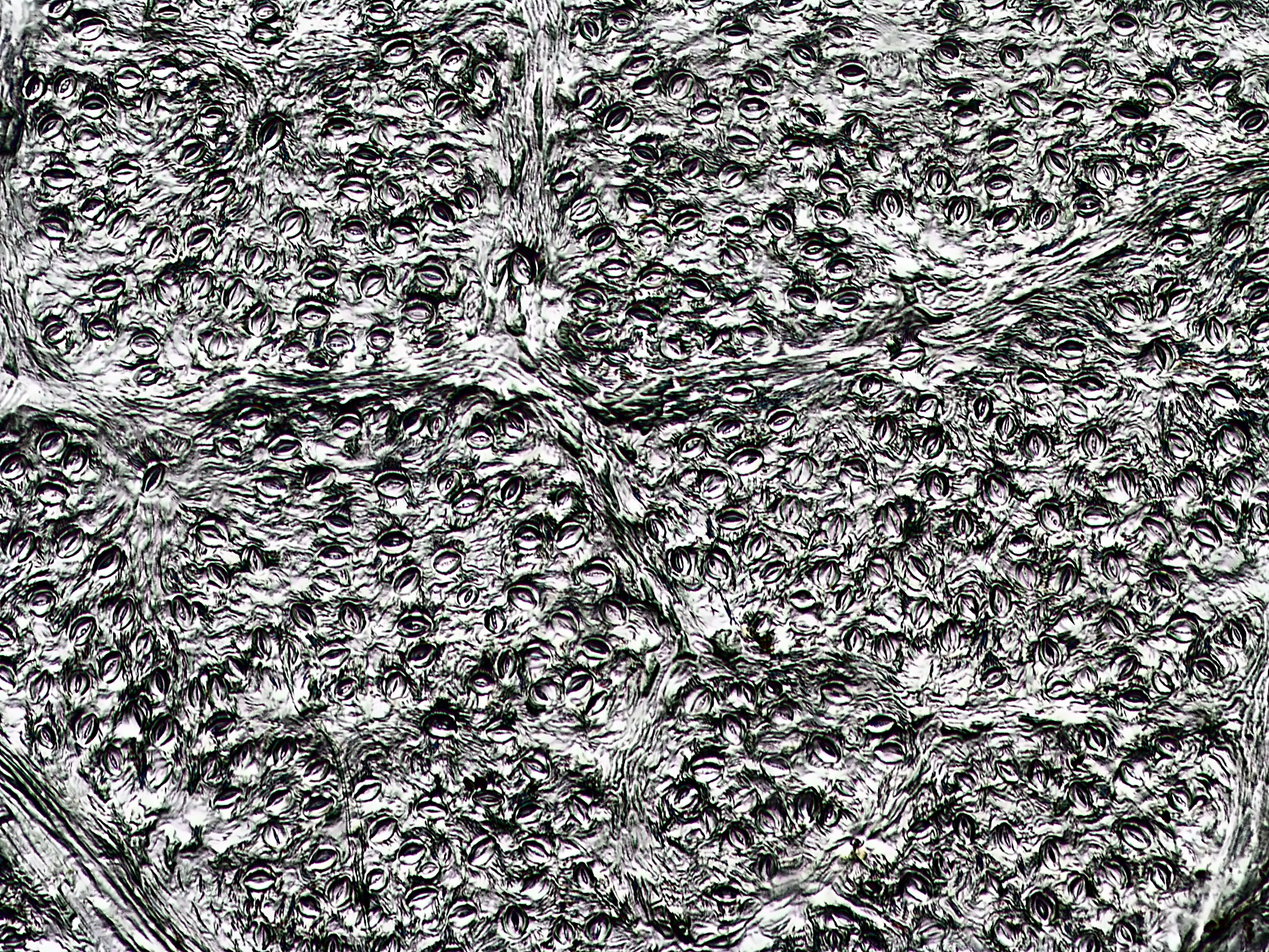stomata: (381, 36, 417, 67), (256, 116, 286, 153), (728, 448, 766, 476), (509, 248, 537, 285), (1164, 614, 1199, 643), (1073, 372, 1107, 401), (1071, 189, 1104, 218), (691, 753, 724, 782), (174, 137, 208, 165), (268, 432, 302, 460), (623, 184, 655, 213), (1219, 424, 1247, 457), (93, 545, 120, 579), (296, 304, 331, 330), (375, 473, 410, 499), (891, 344, 926, 370), (170, 595, 195, 631), (667, 69, 696, 100), (468, 836, 496, 868), (41, 162, 74, 189), (339, 176, 372, 203), (338, 601, 365, 634), (1207, 72, 1241, 98), (424, 713, 458, 739), (502, 905, 528, 939), (639, 263, 670, 291), (902, 872, 933, 900), (1120, 823, 1152, 850), (317, 641, 350, 667), (796, 785, 822, 818), (251, 303, 276, 337), (35, 481, 69, 506), (1010, 89, 1039, 118), (1142, 517, 1171, 546), (702, 552, 731, 581), (56, 528, 84, 558), (714, 506, 749, 530), (584, 913, 611, 944), (882, 502, 905, 538), (73, 17, 107, 41), (435, 90, 463, 119), (1223, 221, 1252, 249), (262, 821, 290, 850), (1212, 500, 1239, 530), (368, 816, 398, 843), (22, 71, 48, 102), (78, 93, 109, 119), (1067, 782, 1093, 813), (377, 532, 412, 555), (195, 523, 227, 548), (303, 794, 335, 819), (1112, 467, 1136, 500), (108, 160, 141, 184), (38, 216, 71, 240), (401, 301, 434, 325), (577, 563, 613, 585), (399, 87, 428, 114), (1039, 503, 1066, 532), (302, 757, 331, 784), (812, 736, 841, 763), (717, 21, 751, 44), (304, 266, 338, 289), (29, 669, 52, 703), (9, 532, 35, 562), (744, 68, 775, 93), (781, 135, 812, 160), (1112, 297, 1143, 322), (1208, 382, 1239, 407), (952, 813, 977, 844), (146, 227, 171, 258), (519, 872, 550, 897), (112, 64, 144, 88), (1082, 427, 1106, 459), (112, 597, 136, 629), (231, 739, 255, 771), (985, 475, 1009, 507), (990, 584, 1013, 617), (996, 822, 1019, 855), (317, 545, 350, 568), (452, 492, 485, 515), (798, 104, 825, 132), (393, 567, 421, 594), (599, 598, 627, 625), (756, 806, 784, 833), (877, 188, 903, 217), (427, 201, 456, 227), (37, 429, 66, 455), (69, 616, 95, 645), (514, 800, 543, 826), (1192, 522, 1222, 547), (1024, 430, 1049, 460), (108, 209, 133, 239), (513, 525, 543, 550), (1026, 759, 1050, 790), (237, 404, 268, 428), (305, 466, 336, 490), (205, 711, 236, 735), (328, 876, 352, 907), (579, 636, 610, 660), (787, 287, 818, 311), (765, 409, 796, 433), (149, 56, 181, 79), (1059, 59, 1091, 82), (1205, 315, 1228, 347), (1031, 892, 1054, 924), (98, 652, 121, 684), (150, 714, 173, 746), (206, 674, 229, 706), (548, 169, 580, 192), (573, 288, 605, 311), (790, 455, 813, 487), (471, 62, 497, 90), (1044, 150, 1070, 178), (1102, 862, 1128, 890), (29, 588, 55, 616), (290, 602, 316, 630), (265, 788, 293, 814), (309, 845, 337, 871), (678, 434, 706, 460), (322, 117, 355, 139), (835, 62, 868, 84), (92, 278, 125, 300), (414, 266, 447, 288), (243, 869, 276, 891), (371, 121, 396, 150), (465, 425, 494, 450), (624, 308, 662, 327), (1038, 5, 1062, 35), (1109, 12, 1139, 36), (1239, 110, 1269, 134), (947, 195, 971, 225), (1116, 689, 1152, 709), (501, 476, 525, 506), (273, 736, 297, 766), (573, 862, 597, 892), (520, 840, 550, 864), (466, 671, 496, 695), (1019, 369, 1049, 393), (720, 714, 744, 744), (690, 686, 714, 716), (798, 238, 832, 259), (875, 412, 896, 446), (427, 151, 458, 174), (1143, 80, 1174, 103), (819, 171, 850, 194), (1152, 339, 1175, 370), (992, 917, 1015, 948), (938, 620, 961, 651), (873, 741, 904, 764), (223, 277, 245, 309), (279, 211, 305, 238), (378, 180, 405, 206), (36, 114, 64, 139), (605, 106, 633, 131), (1112, 919, 1137, 947), (80, 195, 108, 220), (555, 525, 583, 550), (73, 128, 102, 152), (440, 48, 469, 72), (1105, 609, 1129, 638), (186, 228, 215, 252), (64, 444, 88, 473), (832, 290, 865, 311), (737, 680, 758, 713), (1039, 637, 1062, 667), (1083, 722, 1106, 752), (76, 713, 99, 743), (502, 410, 525, 440), (407, 644, 437, 667), (568, 795, 591, 825), (332, 416, 363, 438), (580, 321, 611, 343), (821, 683, 852, 705), (761, 755, 792, 777), (255, 476, 289, 496), (397, 616, 431, 636), (576, 84, 602, 110), (1166, 788, 1193, 813), (360, 272, 387, 297), (0, 454, 27, 479), (208, 177, 236, 201), (984, 175, 1012, 199), (1149, 572, 1177, 596), (1057, 564, 1078, 596), (102, 744, 123, 776), (508, 588, 536, 612), (416, 800, 448, 821), (406, 887, 438, 908), (588, 228, 616, 252), (637, 221, 665, 245), (764, 213, 792, 237), (925, 471, 949, 499), (929, 165, 952, 194), (432, 551, 461, 574), (353, 779, 382, 802), (448, 904, 477, 927), (725, 134, 760, 153), (349, 149, 382, 169), (739, 98, 769, 120), (208, 330, 230, 360), (680, 277, 710, 299), (907, 554, 929, 584), (690, 101, 721, 122), (1163, 235, 1194, 256), (673, 210, 704, 231), (911, 597, 932, 628), (1119, 761, 1144, 787), (551, 612, 577, 637), (1168, 288, 1194, 313), (745, 534, 770, 560), (200, 105, 227, 129), (1094, 160, 1118, 187), (207, 562, 231, 589), (527, 683, 554, 707), (719, 164, 746, 188), (1051, 101, 1085, 120), (1222, 189, 1250, 212), (1178, 472, 1201, 500), (1115, 654, 1138, 682), (190, 271, 213, 299), (366, 329, 394, 352), (484, 606, 507, 634), (571, 198, 599, 221), (139, 89, 159, 121), (187, 677, 207, 709), (252, 23, 281, 45), (389, 220, 418, 242), (130, 335, 159, 357), (355, 906, 384, 928), (629, 143, 658, 165), (670, 786, 699, 808), (702, 473, 731, 495), (788, 590, 817, 612), (815, 204, 845, 225), (1174, 207, 1204, 228), (1017, 562, 1038, 592), (518, 758, 548, 779), (825, 259, 855, 280), (1164, 144, 1189, 169), (1192, 659, 1217, 684), (1166, 433, 1192, 457), (866, 561, 890, 587), (1045, 675, 1072, 698), (833, 585, 856, 612), (987, 138, 1018, 158), (1041, 839, 1061, 870), (133, 365, 164, 385), (245, 545, 265, 576), (252, 628, 272, 659), (996, 413, 1018, 441), (143, 464, 165, 492), (324, 514, 352, 536), (841, 458, 869, 480), (824, 514, 846, 542), (873, 633, 895, 661), (1151, 862, 1172, 891), (213, 787, 242, 808), (953, 510, 974, 539), (624, 55, 654, 75), (1082, 506, 1112, 526), (1100, 552, 1120, 582), (1068, 875, 1088, 905), (952, 773, 977, 797), (297, 894, 322, 918), (486, 724, 516, 744), (497, 649, 517, 679), (993, 208, 1019, 231), (404, 409, 427, 435), (645, 516, 668, 542), (659, 337, 685, 360), (1062, 400, 1088, 423), (916, 393, 939, 419), (818, 561, 841, 587), (789, 44, 816, 66), (1125, 163, 1152, 185), (1155, 736, 1182, 758), (155, 279, 177, 306), (215, 437, 242, 459), (399, 841, 426, 863), (555, 918, 577, 945), (472, 789, 505, 807), (843, 626, 865, 653), (366, 2, 397, 21), (1112, 105, 1143, 124), (599, 258, 630, 277), (724, 385, 755, 404), (1130, 132, 1158, 153), (340, 221, 368, 242), (149, 668, 170, 696), (127, 703, 147, 732), (671, 546, 691, 575), (385, 671, 405, 700), (456, 187, 480, 211), (1056, 340, 1088, 358), (999, 45, 1024, 68), (1075, 666, 1098, 691), (438, 471, 461, 496), (224, 655, 247, 680), (55, 73, 77, 99), (609, 10, 635, 32), (1035, 203, 1057, 229), (845, 116, 867, 142), (68, 669, 90, 695), (567, 674, 593, 696), (202, 751, 221, 781), (923, 432, 944, 459), (981, 666, 1008, 687), (135, 630, 155, 658), (974, 395, 994, 423), (865, 715, 896, 733), (1226, 471, 1250, 494), (373, 404, 396, 428), (824, 26, 853, 45), (952, 106, 981, 125), (699, 809, 718, 838), (367, 868, 389, 893), (761, 560, 786, 582), (88, 319, 114, 340), (781, 496, 802, 522), (252, 2, 279, 22), (933, 43, 960, 63), (1008, 535, 1035, 555), (245, 246, 265, 273), (723, 215, 750, 235), (767, 704, 794, 724), (1206, 2, 1234, 21), (1227, 620, 1246, 648), (738, 326, 766, 345), (715, 418, 743, 437), (681, 156, 704, 179), (587, 691, 609, 715), (860, 374, 882, 398), (957, 594, 979, 618), (995, 761, 1020, 782), (42, 324, 67, 345), (35, 724, 56, 749), (323, 335, 350, 354), (523, 647, 550, 666), (1163, 0, 1186, 22), (819, 803, 841, 826), (867, 147, 888, 171), (333, 678, 357, 699), (724, 243, 748, 264), (729, 292, 757, 310), (427, 411, 447, 436), (578, 15, 597, 41), (759, 853, 778, 879), (1191, 52, 1218, 70), (456, 586, 479, 607), (727, 827, 750, 848), (948, 85, 976, 102), (823, 227, 851, 244), (155, 5, 181, 23), (423, 330, 449, 348), (1153, 671, 1174, 693), (712, 887, 739, 904), (634, 76, 659, 94), (832, 910, 857, 928), (255, 922, 271, 950), (761, 679, 783, 699), (419, 860, 440, 880), (1154, 277, 1175, 293), (557, 487, 572, 508), (827, 931, 842, 948)
